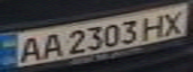0: (103, 20, 124, 47)
2: (63, 26, 90, 56)
3: (118, 17, 145, 44), (84, 24, 106, 52)
A: (12, 34, 45, 64), (36, 30, 66, 61)
H: (136, 12, 172, 39)
X: (154, 7, 193, 36)
